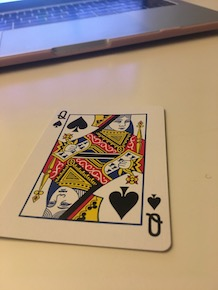QueenOfSpades: (2, 101, 177, 259)
